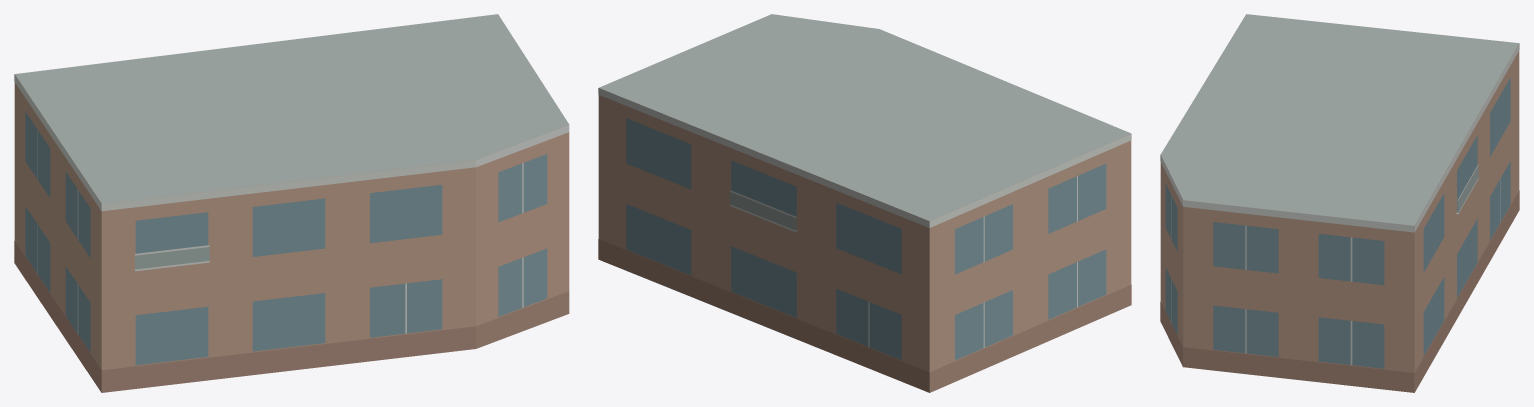
File: survey-upis-32969780.glb
3 renders of one model, left to right at view 1: azimuth 30°, elevation 25°; view 2: azimuth 150°, elevation 25°; view 3: azimuth 270°, elevation 25°, orthographic. The views are drawn at different scales.
Parts seen in each view (by area): view 1: survey-upis-32969780.tmp; view 2: survey-upis-32969780.tmp; view 3: survey-upis-32969780.tmp.
Boxes of the visible parts, left/top/right/bottom form: survey-upis-32969780.tmp: left=14, top=14, right=569, bottom=392; survey-upis-32969780.tmp: left=598, top=14, right=1131, bottom=392; survey-upis-32969780.tmp: left=1160, top=14, right=1519, bottom=392.
Bounding box in the file's own units: 16.61 × 6.1 × 11.89.
